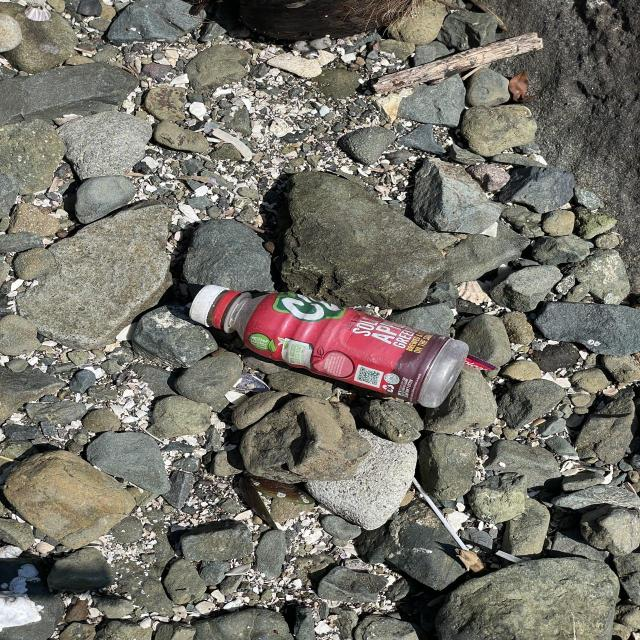plastic_waste: (190, 285, 470, 409)
